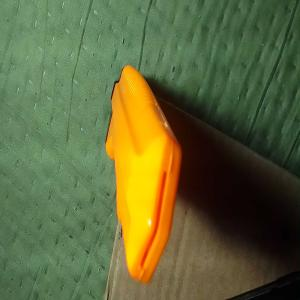estilete: (105, 59, 180, 283)
